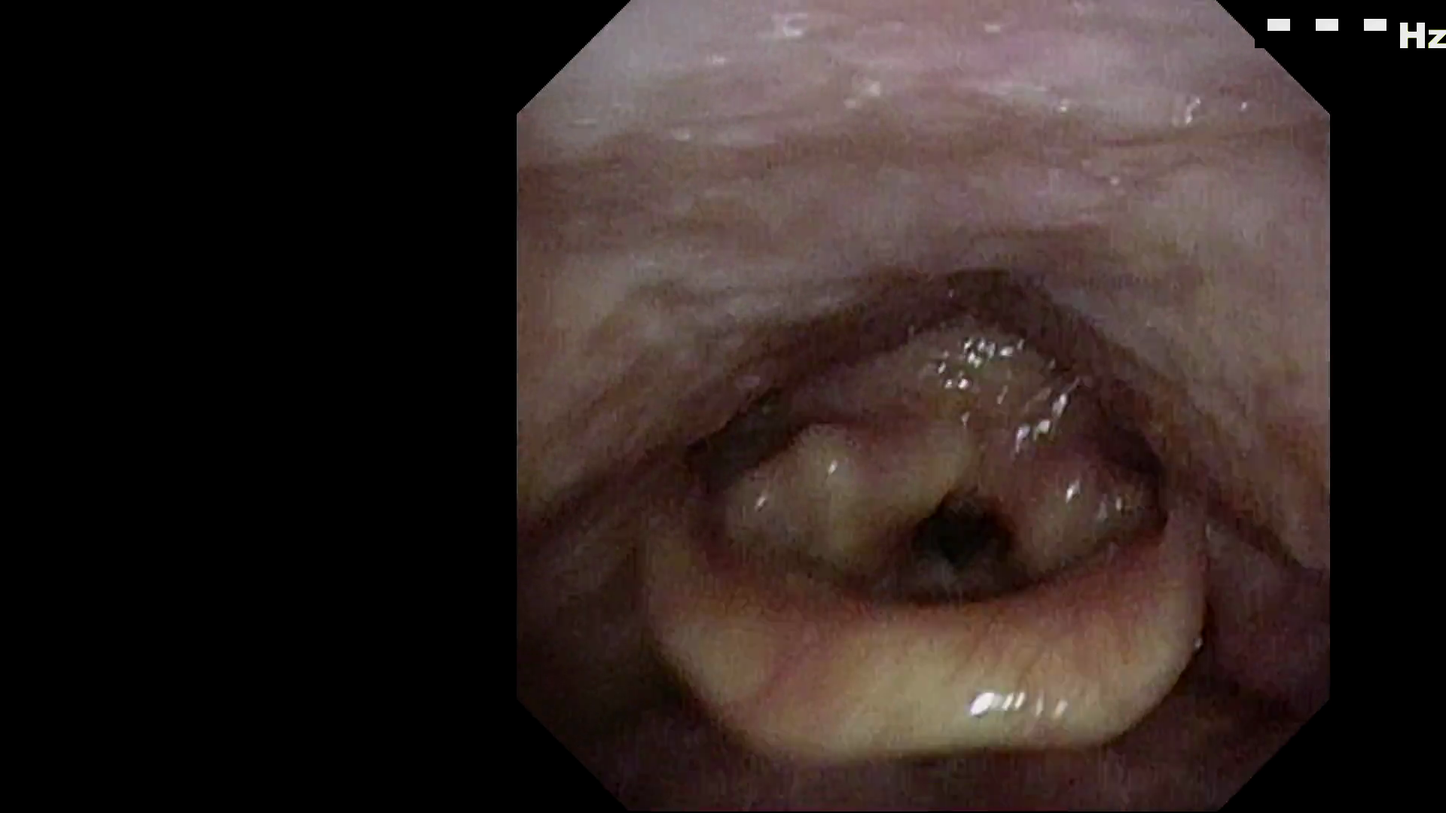epiglottis: (638, 514, 1214, 734)
trachea: (916, 524, 1008, 625)
